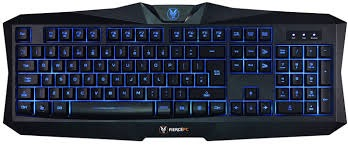keyboard: (1, 18, 347, 132)
